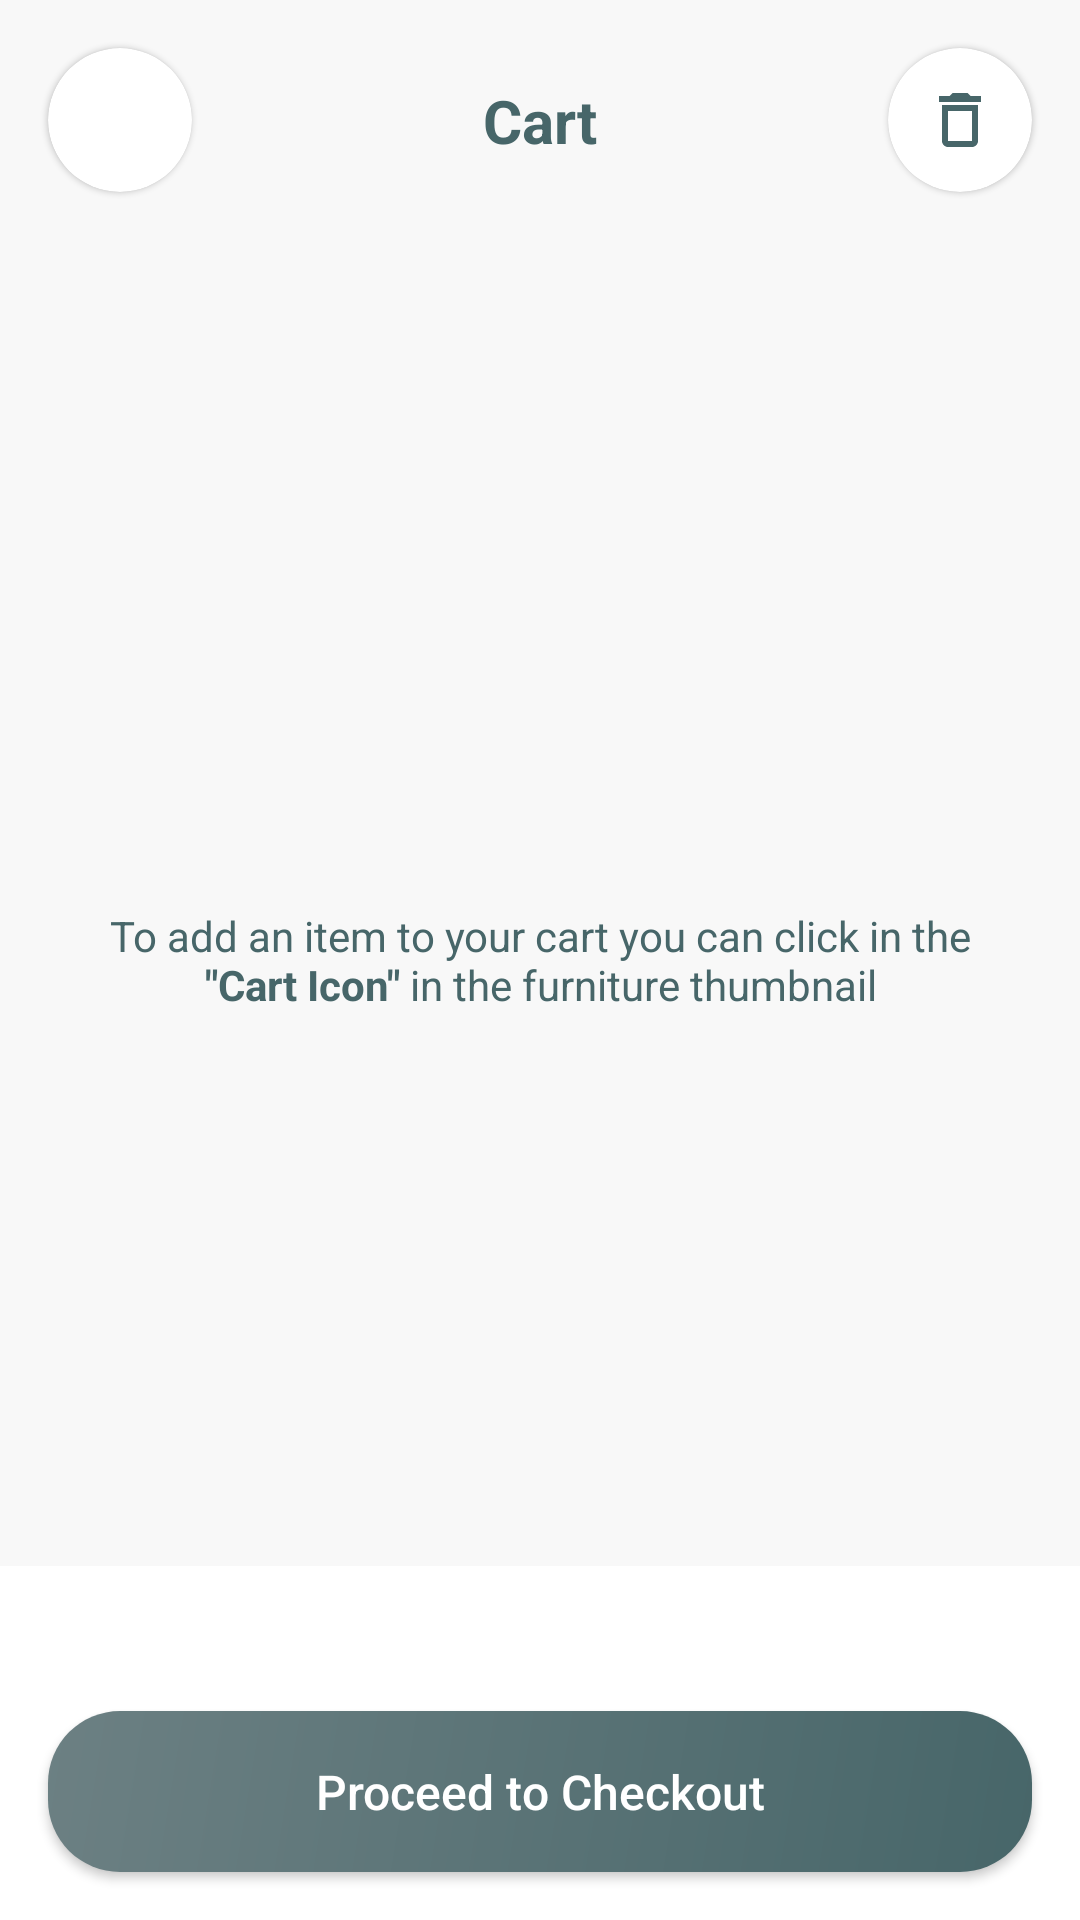

Named icons in this screenshot (1080px×1920px) and their centers, point (x, y):
delete: point (976, 120)
